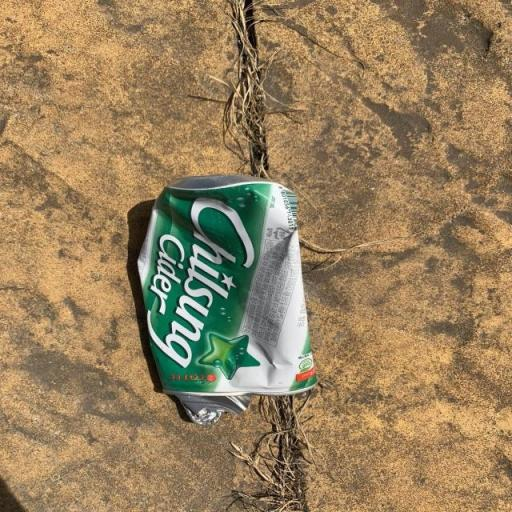metal: (100, 150, 346, 436)
